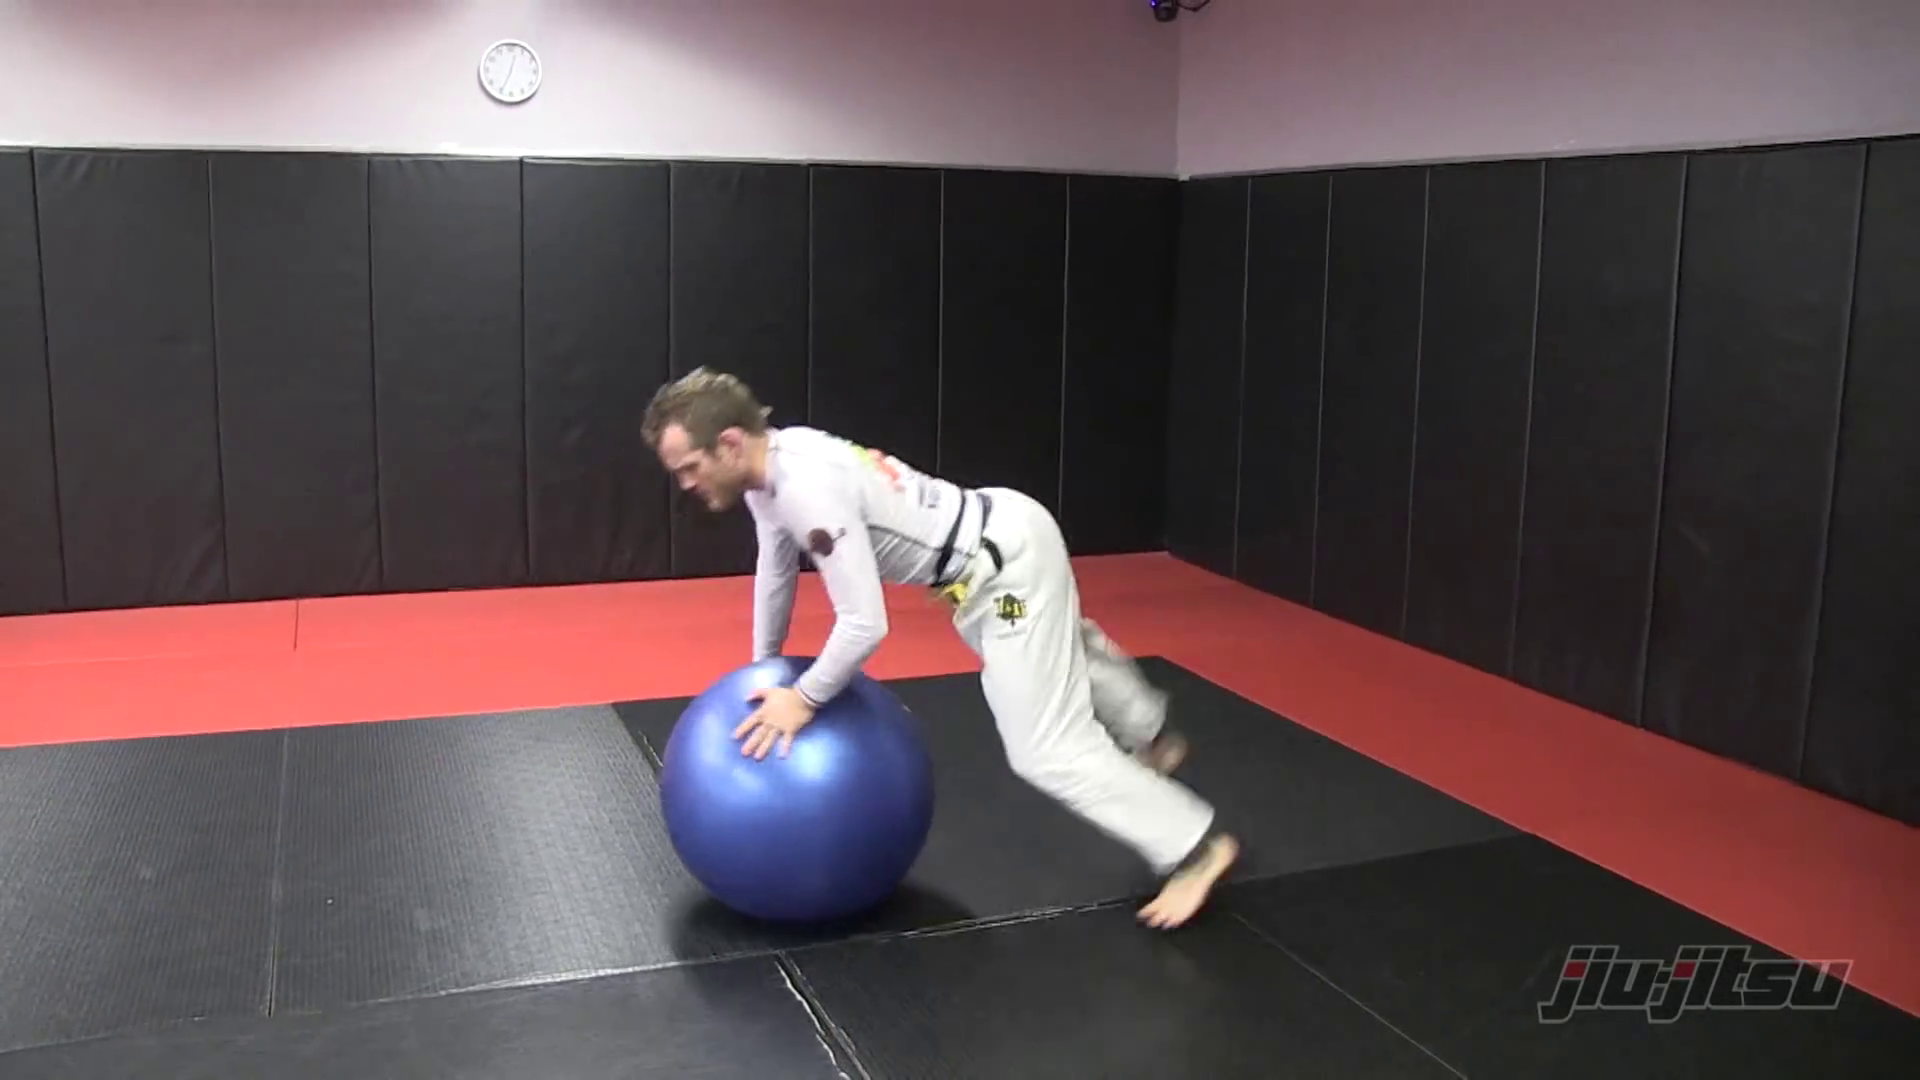yogaball: (646, 646, 953, 963)
